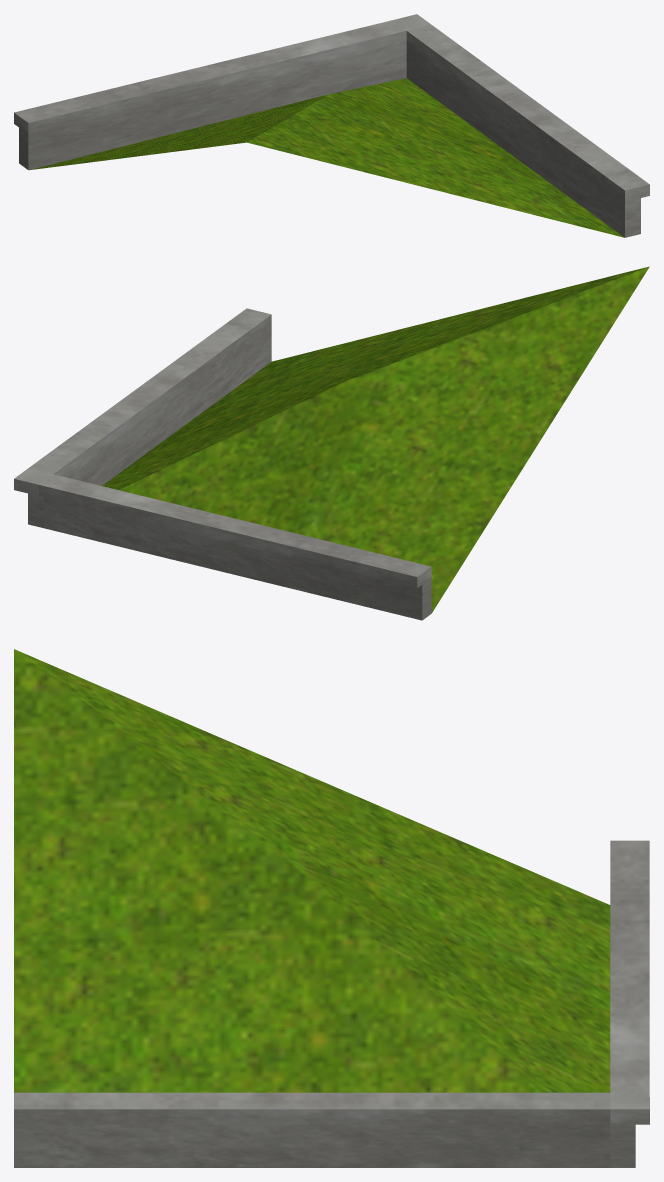
Rendered from PlatoCaorner.fbx.
3 views of the same model, one above another, from view 1: azimuth 30°, elevation 25°; view 2: azimuth 150°, elevation 25°; view 3: azimuth 270°, elevation 25° (orthographic). The views are drawn at different scales.
Visible parts, largest first — view 1: PlatoCorner; view 2: PlatoCorner; view 3: PlatoCorner.
Part boxes in pixels (x1=…): PlatoCorner: x1=14, y1=14, x2=649, y2=237; PlatoCorner: x1=14, y1=266, x2=649, y2=620; PlatoCorner: x1=14, y1=649, x2=649, y2=1167.
Size of the model in its own units: 900 by 900 by 400.
